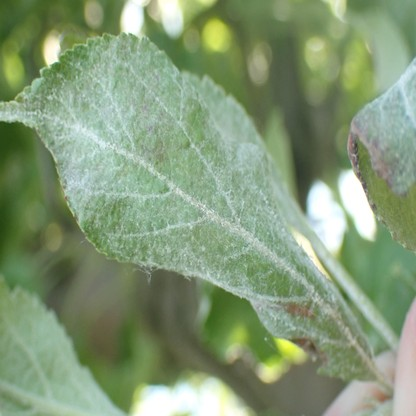powder: (2, 34, 375, 379), (348, 55, 416, 249)
